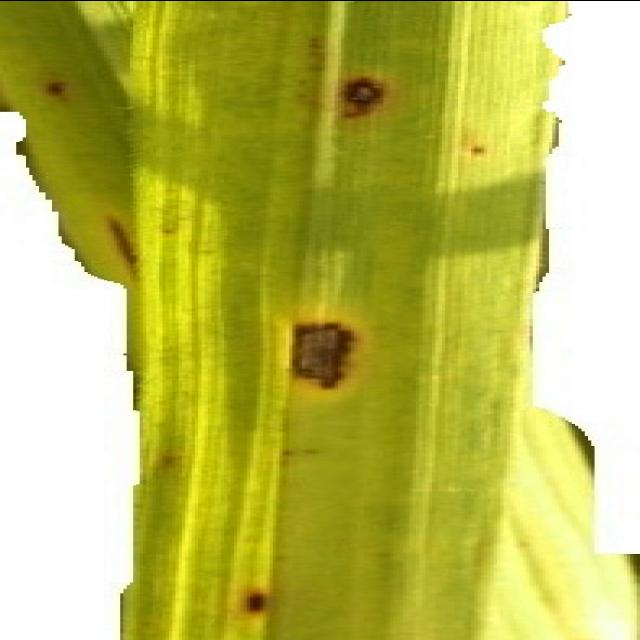Unhealthy: (273, 308, 382, 400), (329, 70, 408, 123), (96, 209, 150, 286), (231, 583, 274, 618), (301, 31, 332, 75), (35, 76, 75, 101), (459, 143, 493, 156)
